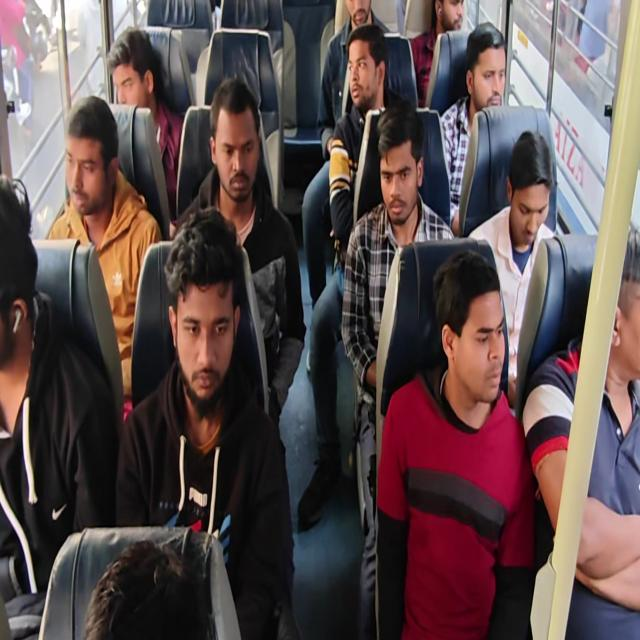person: (1, 2, 638, 638), (115, 206, 298, 638), (375, 247, 536, 638), (340, 99, 455, 637), (0, 173, 120, 638), (296, 23, 406, 530), (522, 226, 640, 638), (170, 75, 306, 432), (46, 94, 162, 421), (301, 0, 393, 307), (467, 130, 555, 408), (327, 24, 406, 260), (106, 26, 184, 218), (439, 22, 507, 235), (82, 538, 214, 639), (316, 0, 392, 158), (409, 0, 465, 108)
